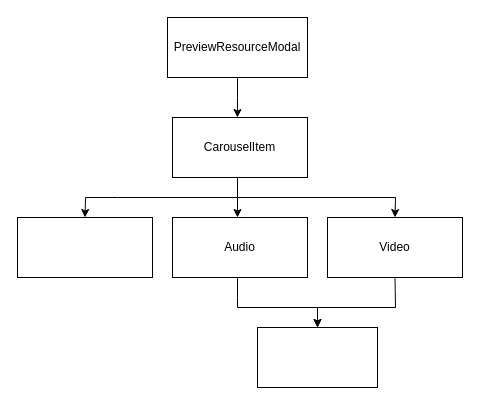
Some shapes in this 480 by 405 pixel diagram are drawn without their labels. The centre of each missing label's shape, as x and y in pixels:
Image: the point at 84,247
useMediaControl: the point at 317,357
